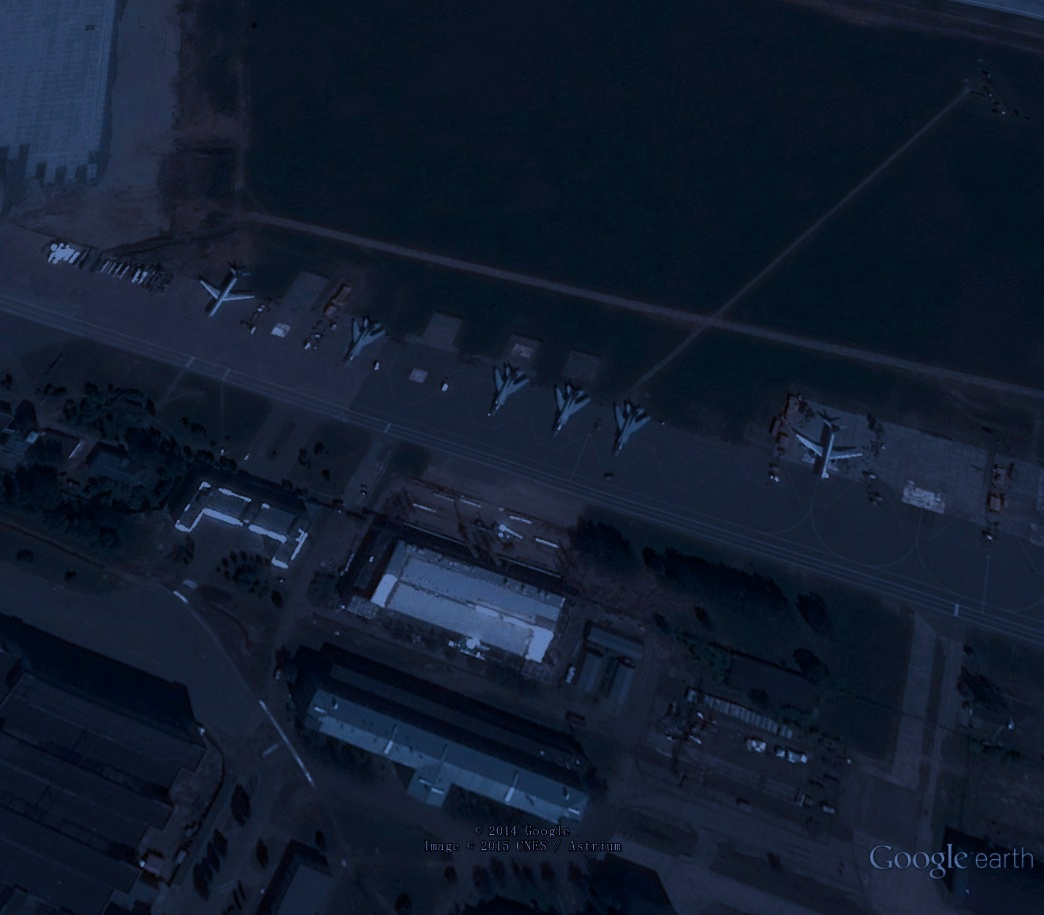aircraft: (789, 411, 870, 484), (193, 258, 259, 327), (547, 376, 600, 444), (484, 358, 538, 423), (342, 310, 393, 372), (610, 397, 657, 463)
